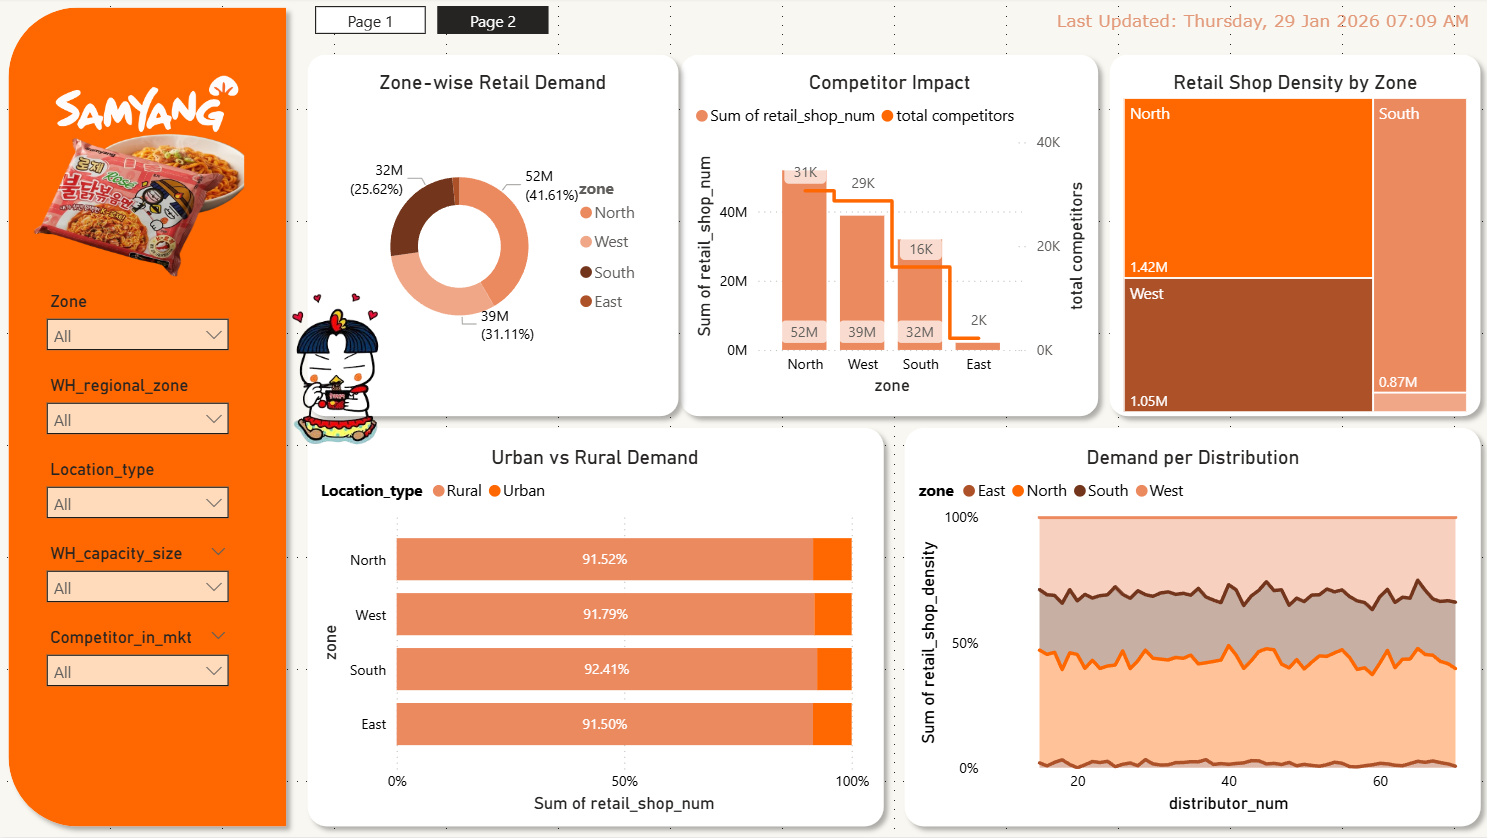

What the dashboard file says about the page in this screenshot:
{"tool":"powerbi","page":{"name":"Page 2","canvas":[1280,720],"ordinal":1},"visuals":[{"type":"cardVisual","fields":{"Data":["FMCG_data.Last Refresh"]},"box":[840,8,432,72],"z":0},{"type":"shape","box":[256,360,512,360],"z":1000},{"type":"shape","box":[944,40,336,328],"z":2000,"group":"g2"},{"type":"shape","box":[768,360,512,360],"z":2000},{"type":"shape","box":[576,40,376,328],"z":3000,"group":"g3"},{"type":"hundredPercentStackedBarChart","title":"Urban vs Rural Demand","fields":{"Category":["FMCG_data.zone"],"Y":["Sum(FMCG_data.retail_shop_num)"],"Series":["FMCG_data.Location_type"]},"box":[272,384,480,320],"z":3000},{"type":"shape","box":[256,40,336,328],"z":4000,"group":"g4"},{"type":"hundredPercentStackedAreaChart","title":"Demand per Distribution","fields":{"Category":["FMCG_data.distributor_num"],"Y":["Sum(FMCG_data.retail_shop_density)"],"Series":["FMCG_data.zone"]},"box":[784,384,480,320],"z":4000},{"type":"shape","box":[0,0,256,720],"z":5000},{"type":"treemap","title":"Retail Shop Density by Zone","fields":{"Group":["FMCG_data.zone"],"Values":["Sum(FMCG_data.retail_shop_density)"]},"box":[960,62.4,304,298.2],"z":5000,"group":"g2"},{"type":"image","box":[16,16,224,152],"z":6000},{"type":"lineStackedColumnComboChart","title":"Competitor Impact","fields":{"Y":["Sum(FMCG_data.retail_shop_num)"],"Category":["FMCG_data.zone"],"Y2":["FMCG_data.total competitors"]},"box":[592,62.4,344,283.3],"z":6000,"group":"g3"},{"type":"image","box":[24,96,192,152],"z":7000},{"type":"donutChart","title":"Zone-wise Retail Demand","fields":{"Y":["Sum(FMCG_data.retail_shop_num)"],"Category":["FMCG_data.zone"]},"box":[288,62.4,272,283.3],"z":8000,"group":"g4"},{"type":"group","id":"g1","title":"Group 2","box":[32,248,176,288],"z":8000},{"type":"slicer","fields":{"Values":["FMCG_data.Competitor_in_mkt"]},"box":[32,536,176,72],"z":9000},{"type":"group","id":"g2","title":"Group 1","box":[944,40,336,328],"z":10000},{"type":"group","id":"g3","title":"Group 3","box":[576,40,376,328],"z":11000},{"type":"group","id":"g4","title":"Group 4","box":[256,40,336,328],"z":12000},{"type":"pageNavigator","box":[272,8,200,24],"z":13000},{"type":"image","box":[216,240,152,152],"z":14000},{"type":"slicer","fields":{"Values":["FMCG_data.zone"]},"box":[32,248,176,72],"z":15000,"group":"g1"},{"type":"slicer","fields":{"Values":["FMCG_data.WH_regional_zone"]},"box":[32,320,176,72],"z":16000,"group":"g1"},{"type":"slicer","fields":{"Values":["FMCG_data.Location_type"]},"box":[32,392,176,72],"z":17000,"group":"g1"},{"type":"slicer","fields":{"Values":["FMCG_data.WH_capacity_size"]},"box":[32,464,176,72],"z":18000,"group":"g1"}]}

Visuals, with their boxes in screenshot pixels (x1, y1, x2, y2), scaled from the page's 1280x720 canvas onto the 1487x838 screenshot:
cardVisual - FMCG_data.Last Refresh: [x1=976, y1=9, x2=1478, y2=93]
shape: [x1=297, y1=419, x2=892, y2=837]
shape: [x1=1097, y1=47, x2=1486, y2=428]
shape: [x1=892, y1=419, x2=1486, y2=837]
shape: [x1=669, y1=47, x2=1106, y2=428]
"Urban vs Rural Demand" hundredPercentStackedBarChart: [x1=316, y1=447, x2=874, y2=819]
shape: [x1=297, y1=47, x2=688, y2=428]
"Demand per Distribution" hundredPercentStackedAreaChart: [x1=911, y1=447, x2=1468, y2=819]
shape: [x1=0, y1=0, x2=297, y2=837]
"Retail Shop Density by Zone" treemap: [x1=1115, y1=73, x2=1468, y2=420]
image: [x1=19, y1=19, x2=279, y2=196]
"Competitor Impact" lineStackedColumnComboChart: [x1=688, y1=73, x2=1087, y2=402]
image: [x1=28, y1=112, x2=251, y2=289]
"Zone-wise Retail Demand" donutChart: [x1=335, y1=73, x2=651, y2=402]
"Group 2" group: [x1=37, y1=289, x2=242, y2=624]
slicer - FMCG_data.Competitor_in_mkt: [x1=37, y1=624, x2=242, y2=708]
"Group 1" group: [x1=1097, y1=47, x2=1486, y2=428]
"Group 3" group: [x1=669, y1=47, x2=1106, y2=428]
"Group 4" group: [x1=297, y1=47, x2=688, y2=428]
pageNavigator: [x1=316, y1=9, x2=548, y2=37]
image: [x1=251, y1=279, x2=428, y2=456]
slicer - FMCG_data.zone: [x1=37, y1=289, x2=242, y2=372]
slicer - FMCG_data.WH_regional_zone: [x1=37, y1=372, x2=242, y2=456]
slicer - FMCG_data.Location_type: [x1=37, y1=456, x2=242, y2=540]
slicer - FMCG_data.WH_capacity_size: [x1=37, y1=540, x2=242, y2=624]
